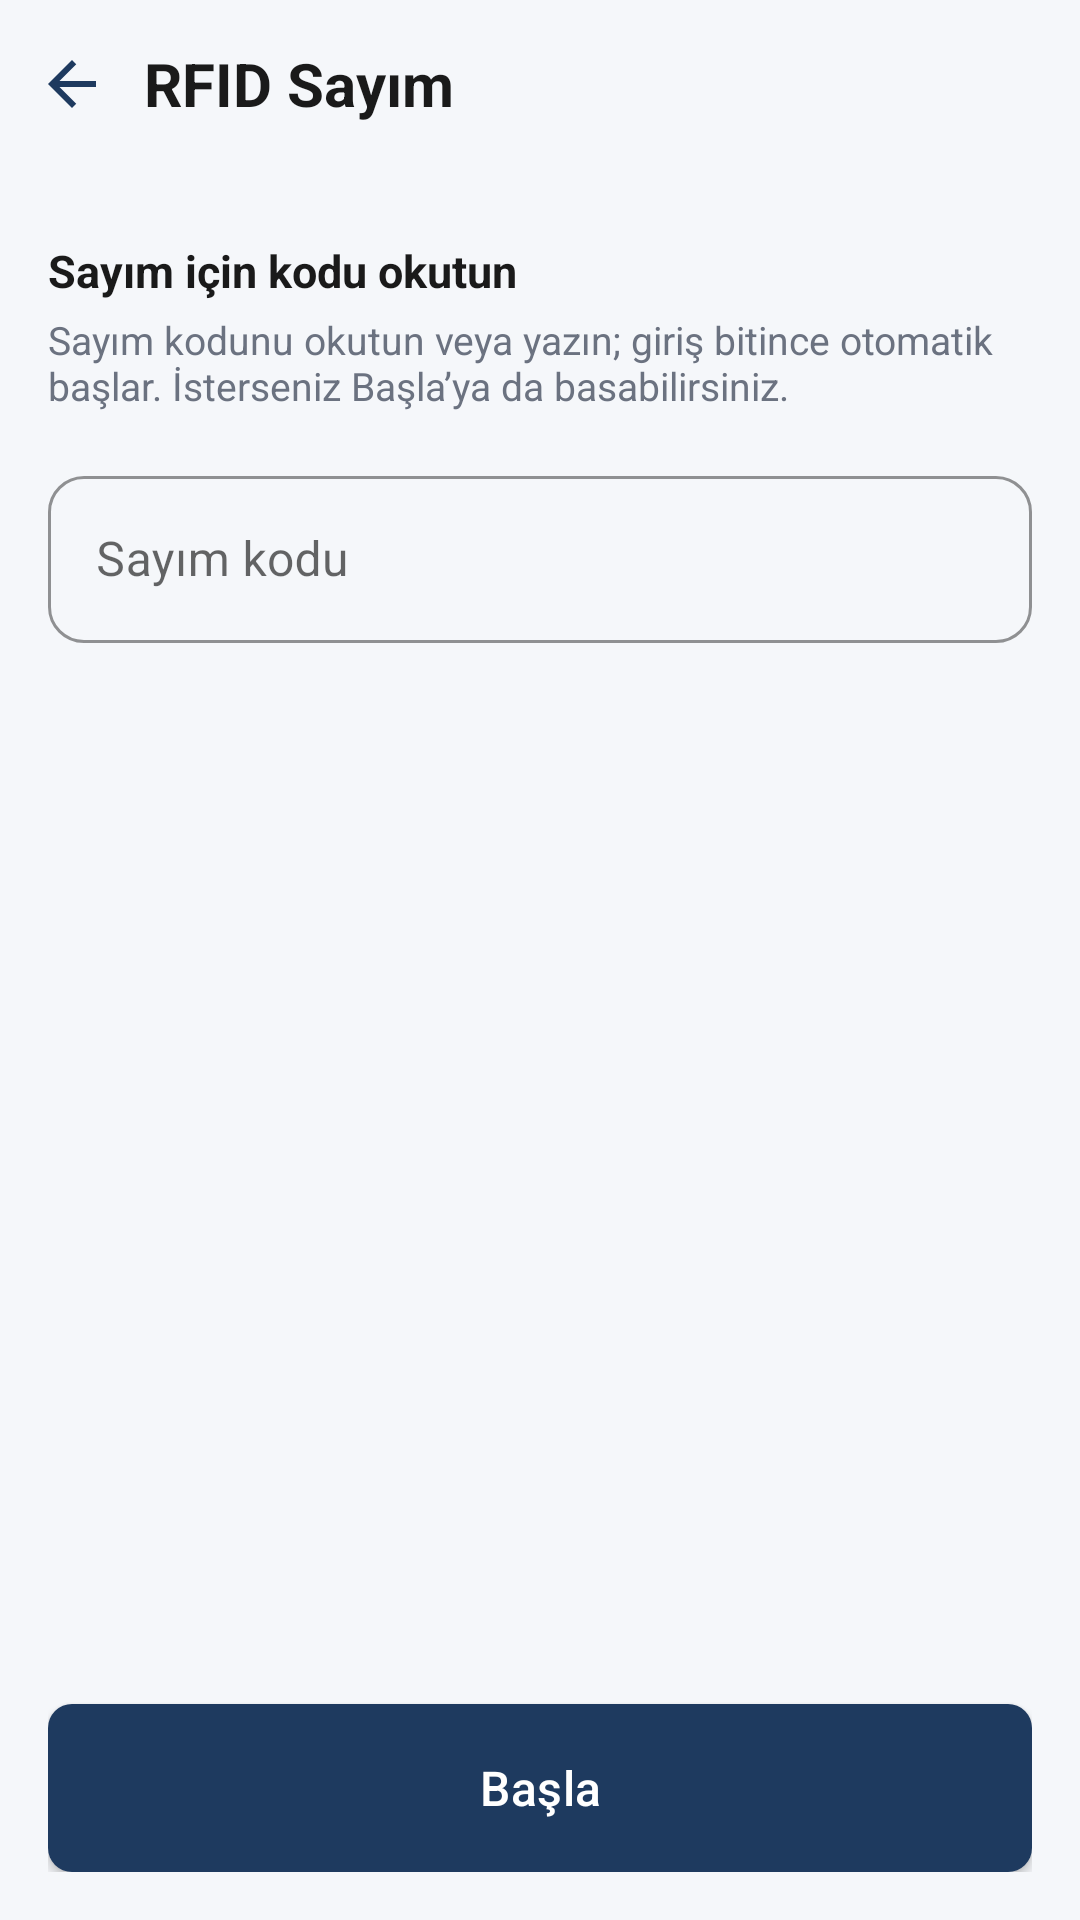

Named icons in this screenshot (1080px x 1920px) and their bounding boxes, bbox(x1, y1, x2, y2):
Geri: bbox(48, 60, 96, 108)
